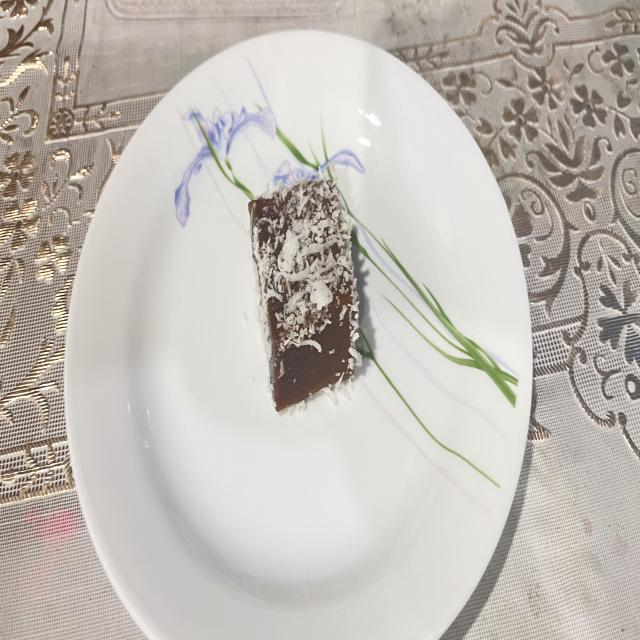kaswi: (249, 178, 360, 411)
